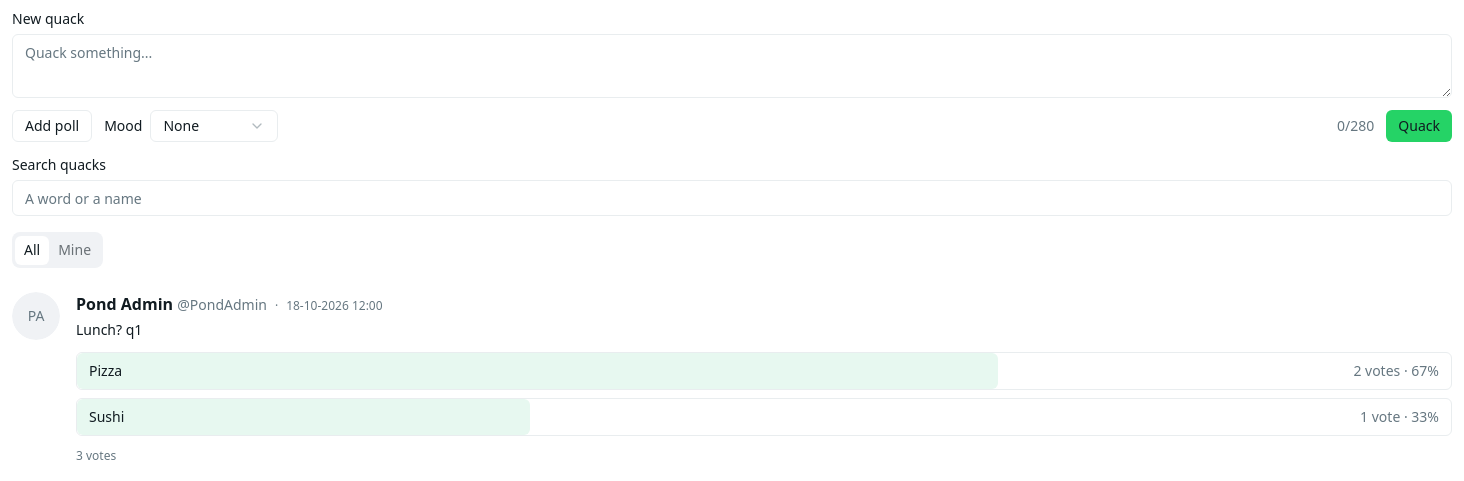
Scenario: voting › shows the vote at once, before the server answers (C1, D1)
Expected: the button "Pizza 2 votes · 67%" is shown, 76,352 -> 1452,390
Click the button "Sushi 1 vote · 33%": (304, 417) 76,398 -> 1452,436
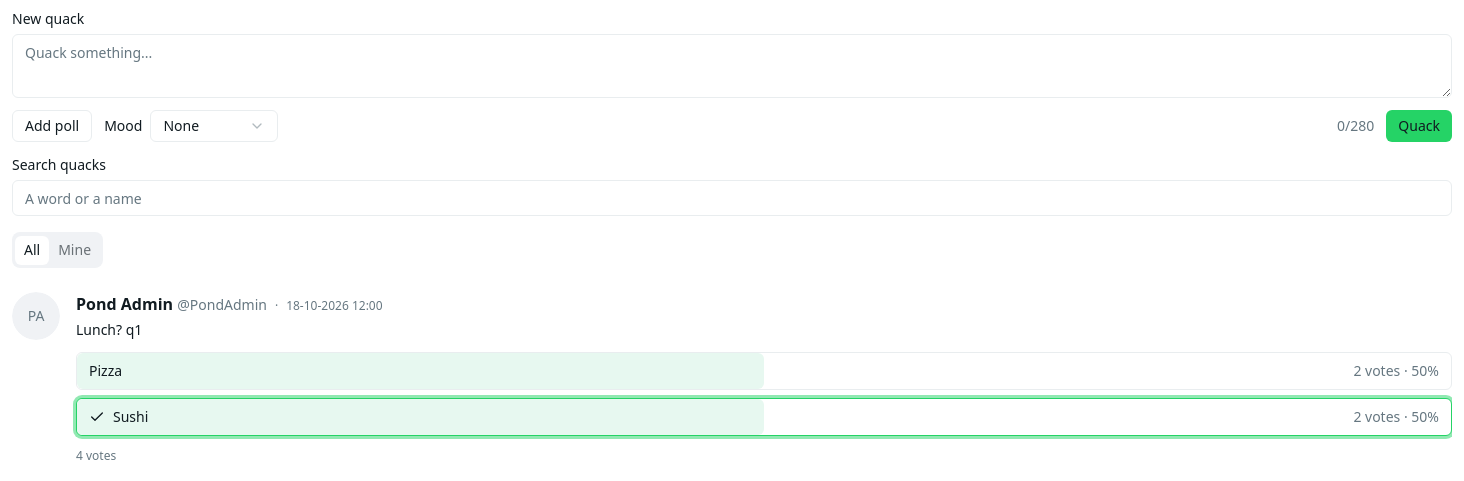
Now the button "Sushi 2 votes · 50%" is shown, box 76,398 -> 1452,436
Now the button "Pizza 2 votes · 50%" is shown, box 76,352 -> 1452,390
Now the text "4 votes" is shown, box 76,448 -> 116,464
